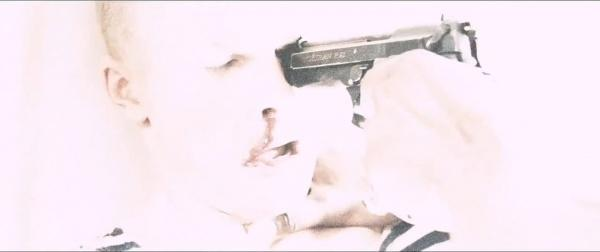Gun: (283, 20, 484, 126)
